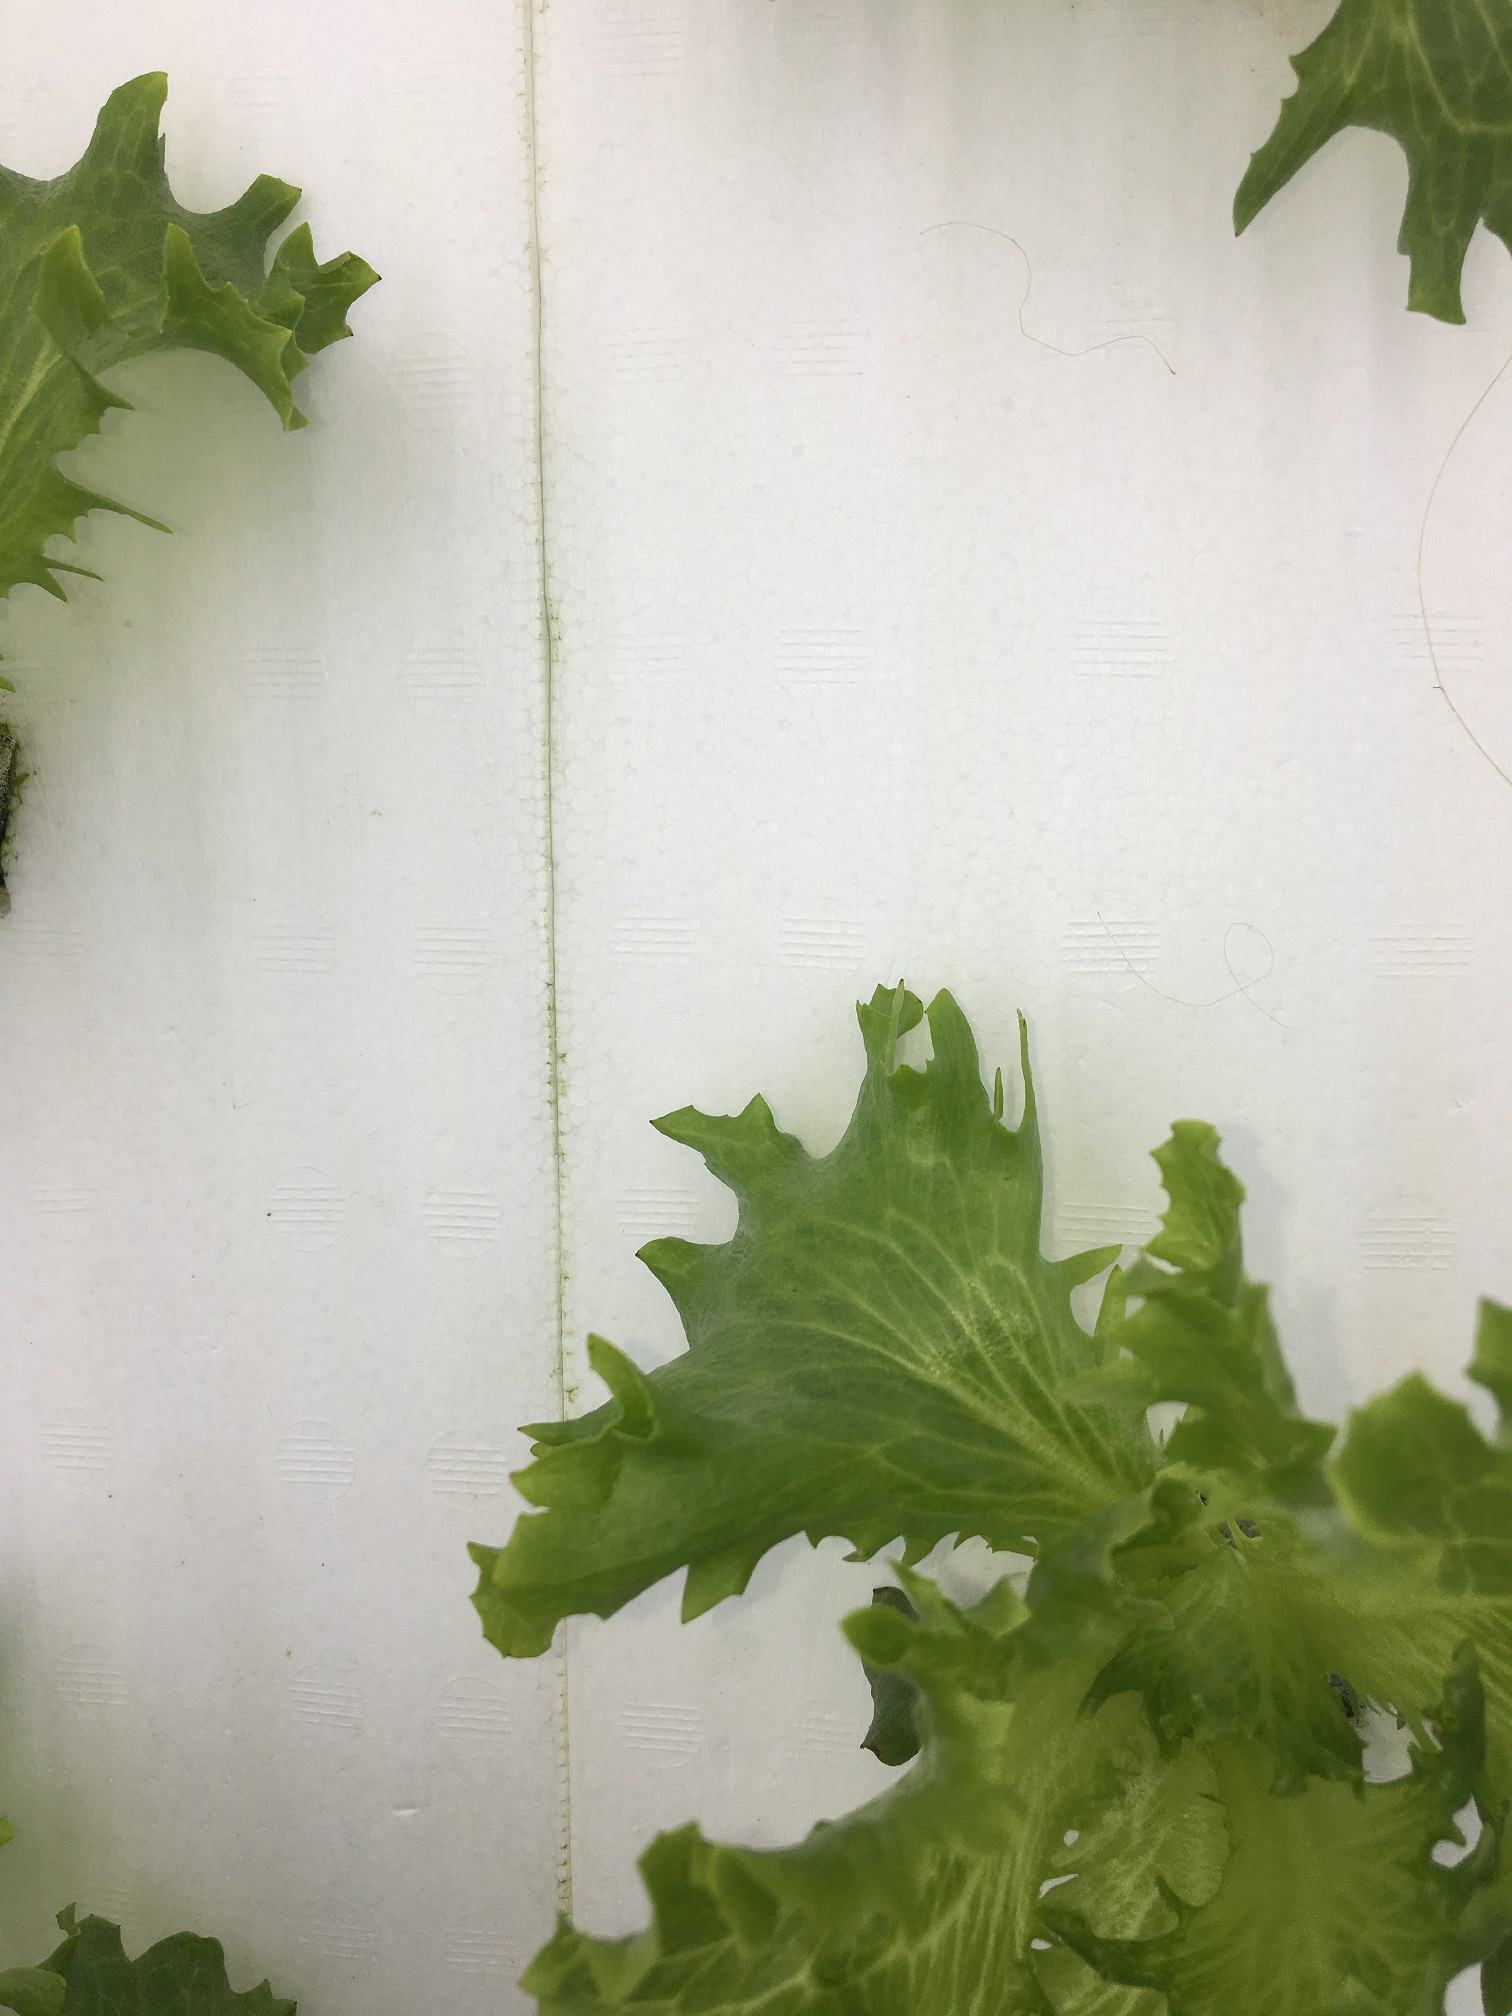tipburn: (283, 171, 345, 208), (1229, 217, 1271, 249), (368, 257, 399, 295), (854, 1730, 885, 1767), (337, 324, 370, 356), (859, 1576, 888, 1606), (891, 960, 921, 989), (913, 995, 932, 1014)
